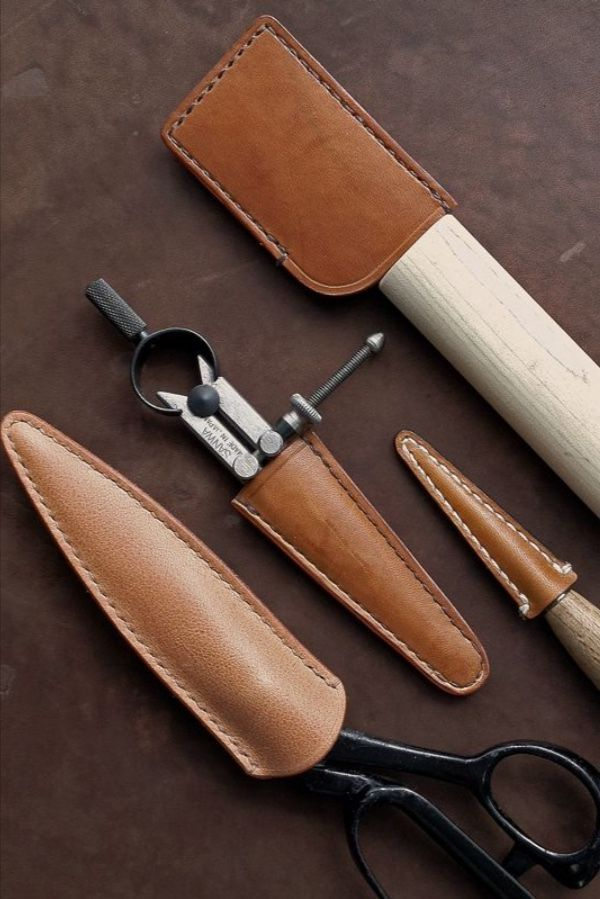cuero: (1, 14, 578, 777)
